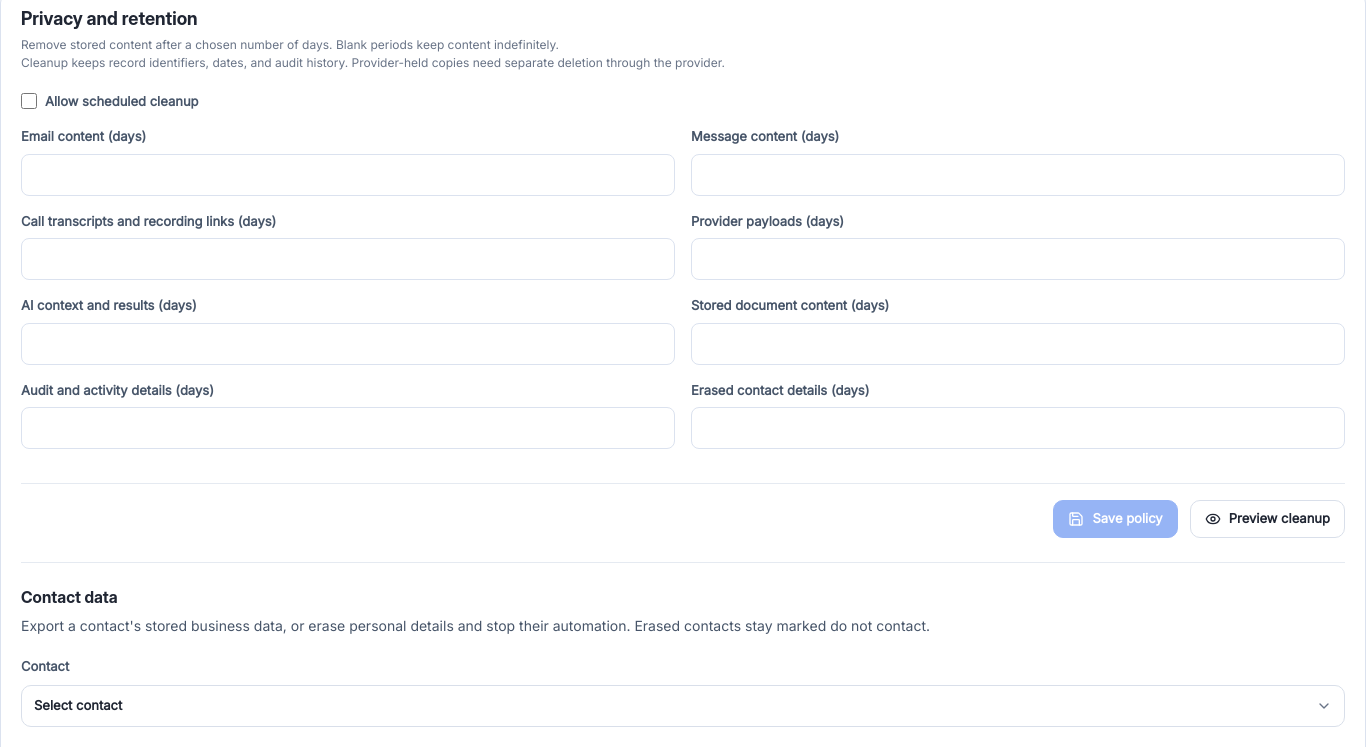
Privacy settings layout › groups contact controls separately and preserves erasure confirmation
This screenshot has width=1366, height=747.
Expected: the heading "Contact data" is shown, [21,587,118,607]
Select "Anika Sethi (anika@example.test)" in the dropdown labelled "Contact". click: {"x": 683, "y": 692}
box: [21,657,1345,727]
(page scrolled)
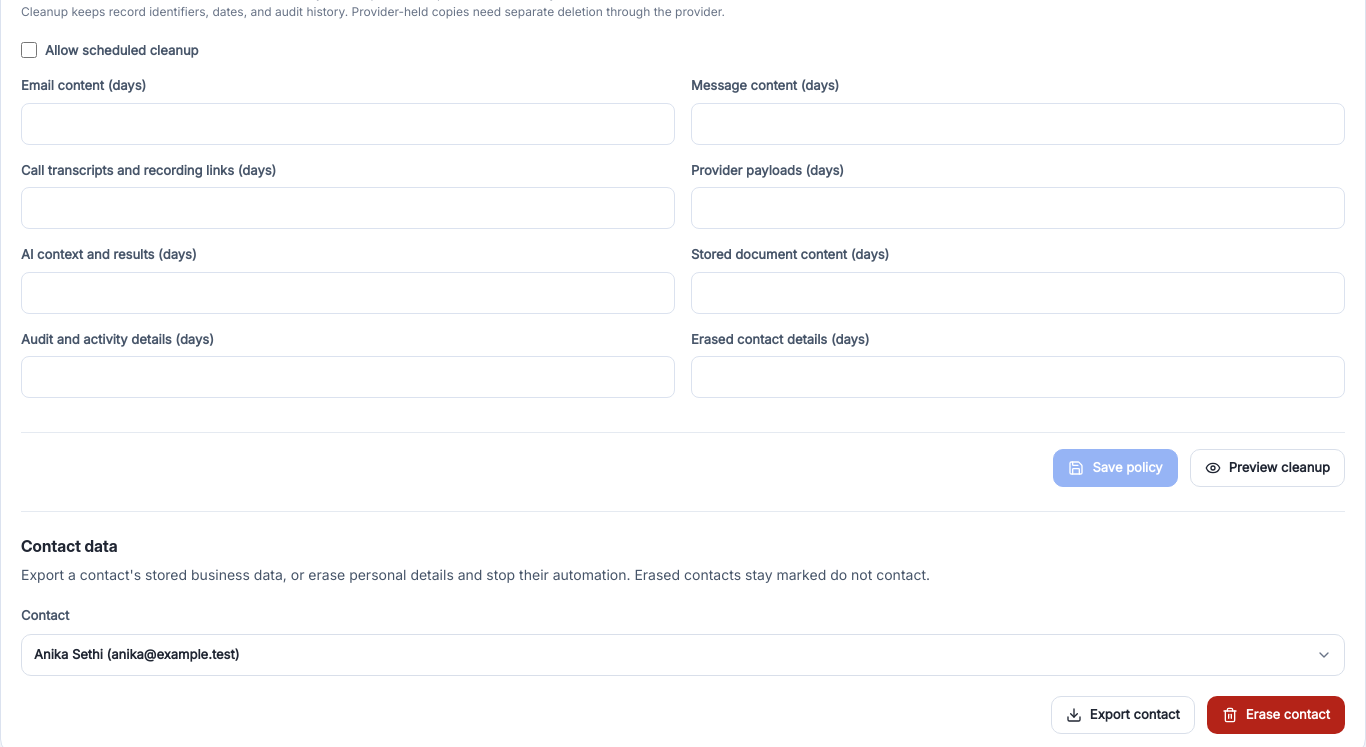
Expected: the button "Erase contact" is enabled
Click the button "Erase contact". click: {"x": 1276, "y": 715}
box: [1207,696,1345,734]
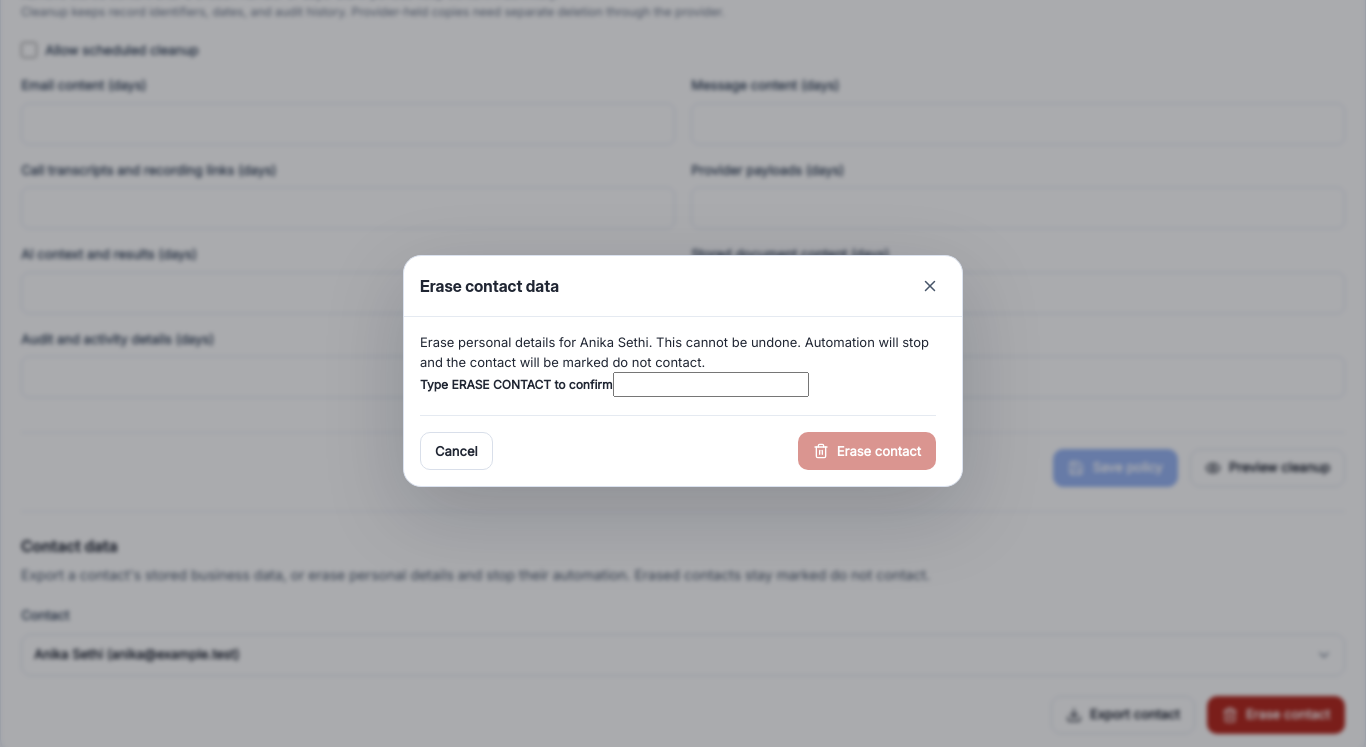
Expected: the button "Erase contact" is disabled, [798,432,936,470]
Expected: the number of number fields is 8
